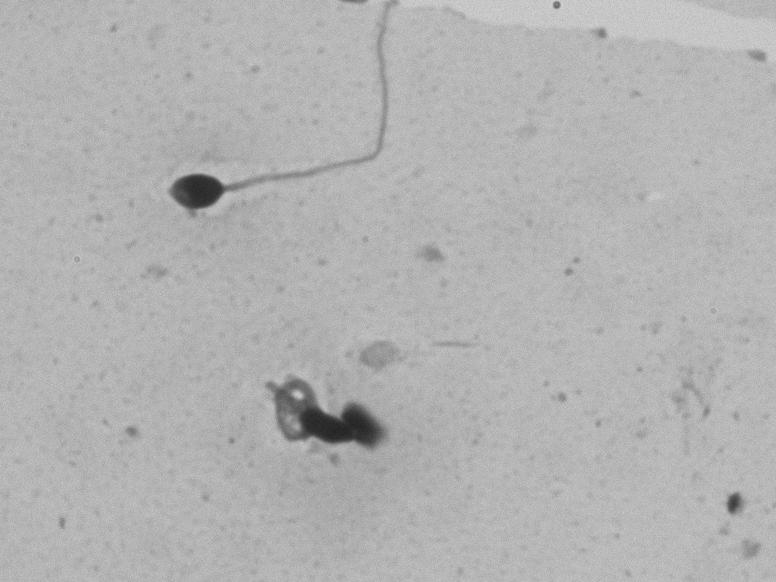Abnormal: (160, 25, 520, 259)
